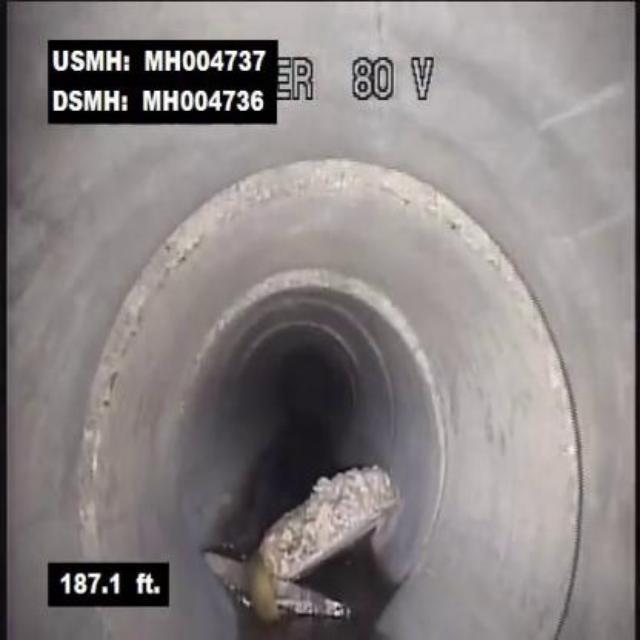Obstacle: (205, 445, 425, 620)
